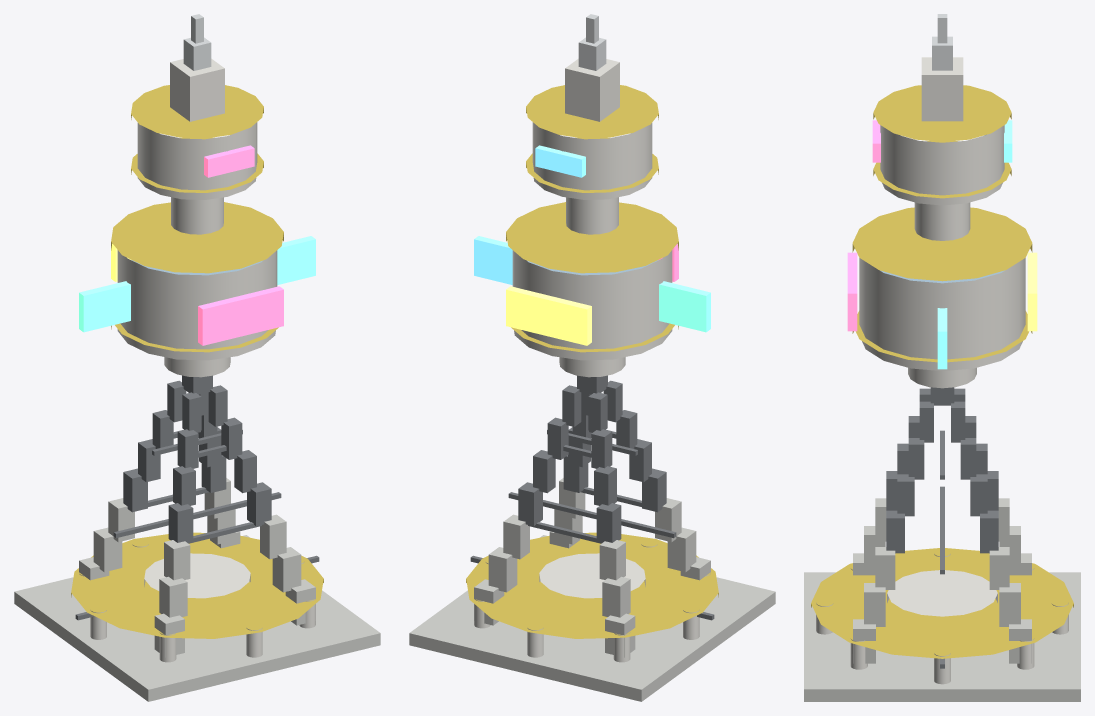
Rendered from tsutenkaku.glb.
3 renders of one model, left to right at view 1: azimuth 30°, elevation 25°; view 2: azimuth 150°, elevation 25°; view 3: azimuth 270°, elevation 25°, orthographic. The views are drawn at different scales.
Visible parts, largest first — view 1: base_platform, arcade_ring, mid_deck_body, mid_deck_ring_hi, upper_obs_body, upper_obs_top, neon_sign_1, spire_base, base_inner, neon_sign_4, shaft_upper, neon_sign_2 (+28 smaller); view 2: base_platform, arcade_ring, mid_deck_body, mid_deck_ring_hi, upper_obs_body, upper_obs_top, neon_sign_3, spire_base, base_inner, neon_sign_4, shaft_upper, neon_sign_2 (+28 smaller); view 3: base_platform, arcade_ring, mid_deck_body, mid_deck_ring_hi, upper_obs_body, upper_obs_top, base_inner, spire_base, shaft_upper, shaft_lower, mid_deck_ring_lo, leg_1_7 (+24 smaller).
Boxes of the visible parts, bbox=[...] form: base_platform: bbox=[14, 535, 380, 701]; arcade_ring: bbox=[71, 532, 323, 638]; mid_deck_body: bbox=[117, 250, 277, 360]; mid_deck_ring_hi: bbox=[111, 202, 283, 273]; upper_obs_body: bbox=[137, 122, 257, 199]; upper_obs_top: bbox=[131, 85, 263, 138]; neon_sign_1: bbox=[198, 286, 283, 345]; spire_base: bbox=[170, 58, 224, 121]; base_inner: bbox=[144, 553, 250, 598]; neon_sign_4: bbox=[79, 281, 130, 332]; shaft_upper: bbox=[171, 197, 223, 234]; neon_sign_2: bbox=[277, 236, 315, 284]; base_platform: bbox=[409, 535, 775, 701]; arcade_ring: bbox=[466, 532, 718, 638]; mid_deck_body: bbox=[512, 250, 672, 360]; mid_deck_ring_hi: bbox=[506, 202, 678, 273]; upper_obs_body: bbox=[532, 122, 652, 199]; upper_obs_top: bbox=[526, 85, 658, 138]; neon_sign_3: bbox=[506, 286, 591, 345]; spire_base: bbox=[565, 58, 619, 121]; base_inner: bbox=[539, 553, 645, 598]; neon_sign_4: bbox=[659, 281, 710, 332]; shaft_upper: bbox=[566, 197, 618, 234]; neon_sign_2: bbox=[474, 236, 512, 284]; base_platform: bbox=[804, 572, 1080, 701]; arcade_ring: bbox=[811, 548, 1073, 658]; mid_deck_body: bbox=[859, 258, 1025, 370]; mid_deck_ring_hi: bbox=[852, 207, 1032, 281]; upper_obs_body: bbox=[880, 125, 1004, 205]; upper_obs_top: bbox=[873, 85, 1011, 141]; base_inner: bbox=[887, 570, 997, 616]; spire_base: bbox=[921, 57, 963, 121]; shaft_upper: bbox=[914, 202, 970, 240]; shaft_lower: bbox=[908, 368, 976, 388]; mid_deck_ring_lo: bbox=[852, 311, 1032, 362]; leg_1_7: bbox=[864, 583, 885, 626].
Bounding box in the file's own units: 125 × 300 × 120.
